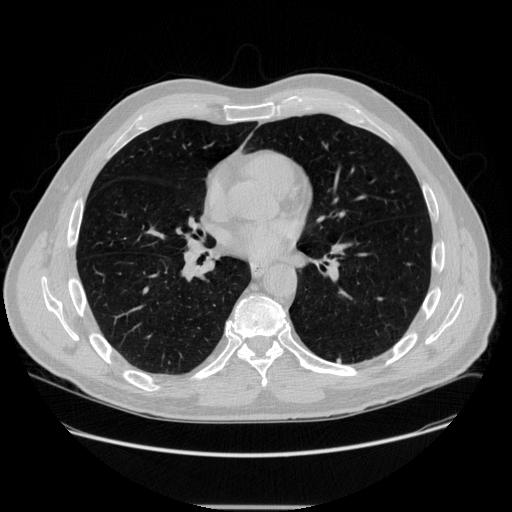nodule: (334, 356, 344, 366)
